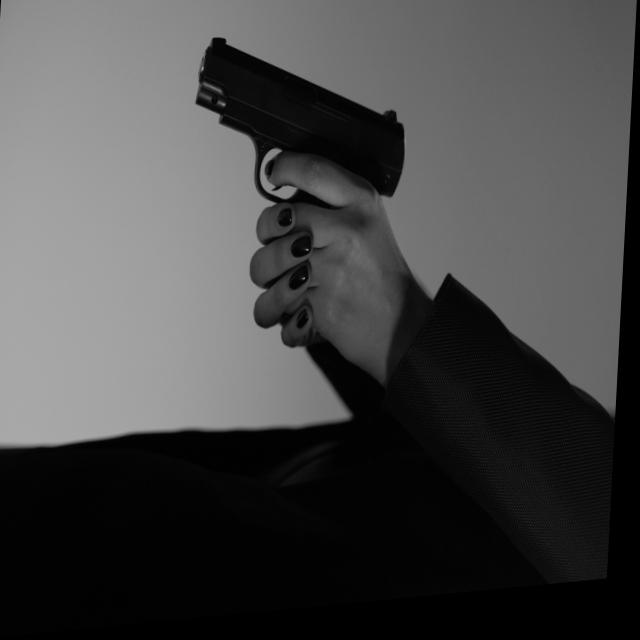handgun: (190, 25, 415, 220)
